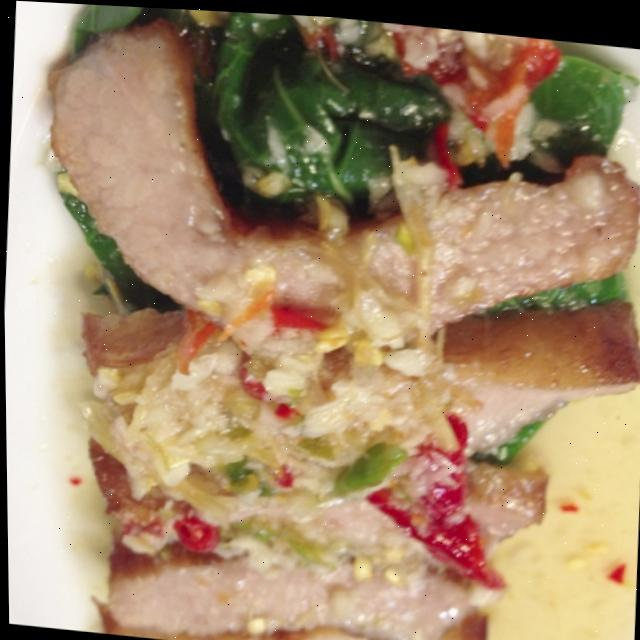猪肉菜式: (8, 0, 640, 640)
